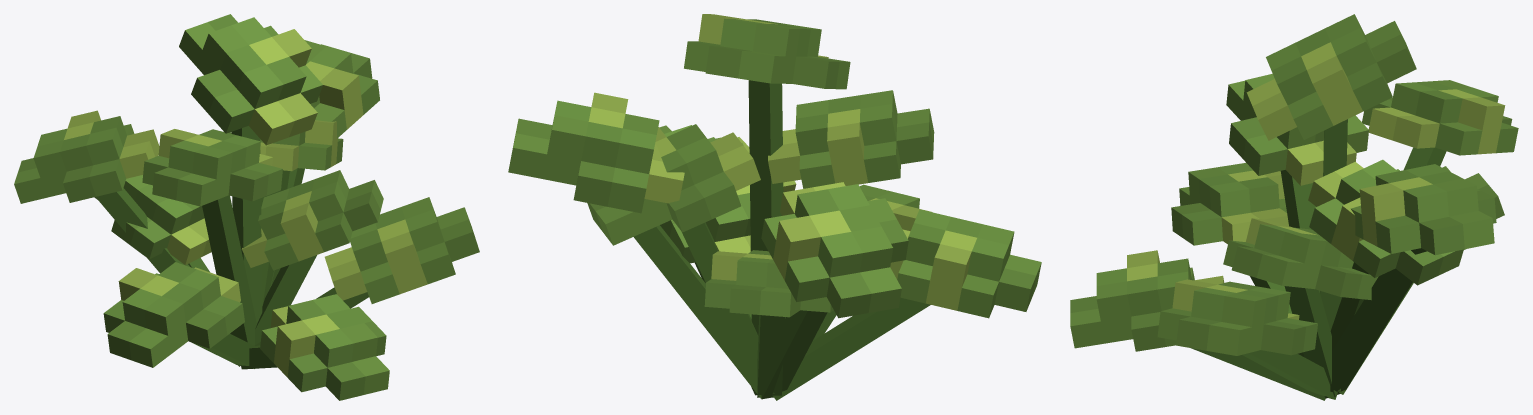
File: SM_VMF_Crop_Potato_Growing.fbx
3 views of the same model, side by side, from view 1: azimuth 30°, elevation 25°; view 2: azimuth 150°, elevation 25°; view 3: azimuth 270°, elevation 25° (orthographic). The views are drawn at different scales.
Visible parts, largest first — view 1: SM_VMF_Crop_Potato_Growing_Leaves, SM_VMF_Crop_Potato_Growing_Stems; view 2: SM_VMF_Crop_Potato_Growing_Leaves, SM_VMF_Crop_Potato_Growing_Stems; view 3: SM_VMF_Crop_Potato_Growing_Leaves, SM_VMF_Crop_Potato_Growing_Stems.
Part boxes in pixels (x1,y1,x2,y2): SM_VMF_Crop_Potato_Growing_Leaves: [14, 14, 479, 400]; SM_VMF_Crop_Potato_Growing_Stems: [96, 126, 368, 369]; SM_VMF_Crop_Potato_Growing_Leaves: [508, 14, 1041, 318]; SM_VMF_Crop_Potato_Growing_Stems: [634, 80, 930, 400]; SM_VMF_Crop_Potato_Growing_Leaves: [1070, 14, 1518, 355]; SM_VMF_Crop_Potato_Growing_Stems: [1191, 119, 1446, 400].
Size of the model in its own units: 60.11 by 52.18 by 57.83.
1 material, 1 textured.
